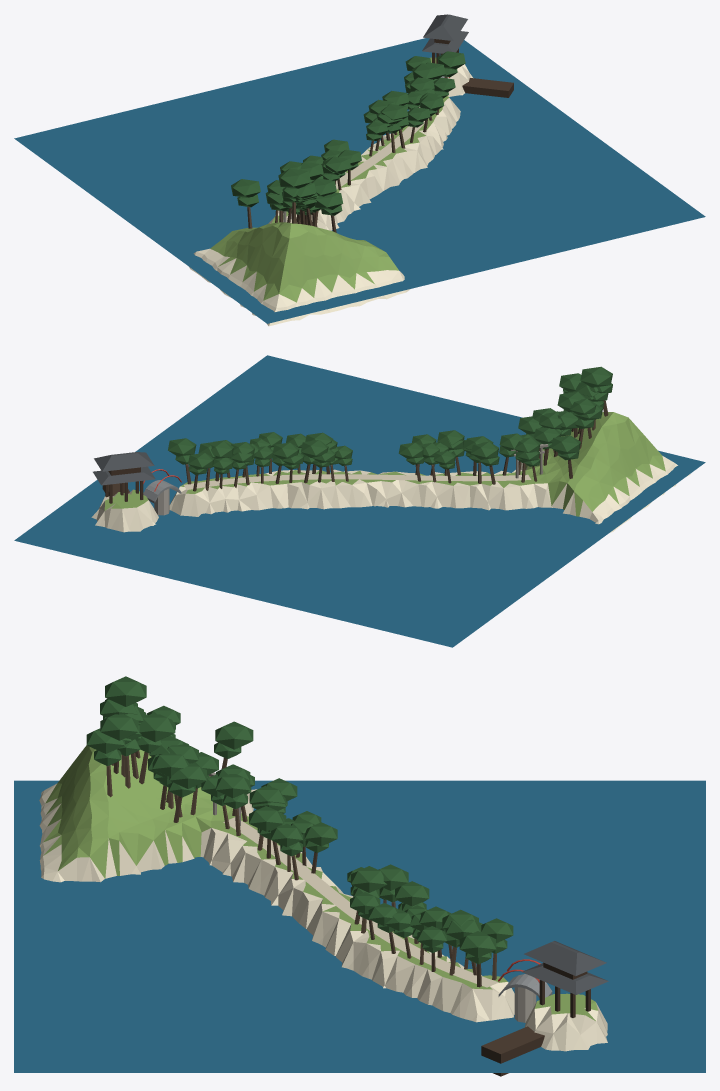
Rendered from amanohashidate.glb.
The picture shows the model from 3 angles, top to bottom: view 1: azimuth 30°, elevation 25°; view 2: azimuth 150°, elevation 25°; view 3: azimuth 270°, elevation 25°; orthographic projection. The views are drawn at different scales.
Parts seen in each view (by area): view 1: amano_water, amano_terrain, amano_pine, amano_sand, amano_tile, amano_bark, amano_darkwood, amano_path; view 2: amano_water, amano_sand, amano_pine, amano_terrain, amano_bark, amano_path, amano_tile, amano_darkwood; view 3: amano_water, amano_pine, amano_sand, amano_terrain, amano_bark, amano_path, amano_tile, amano_darkwood, amano_concrete.
Part boxes in pixels (<box>): amano_water: <box>14,38,705,323</box>; amano_terrain: <box>210,57,448,302</box>; amano_pine: <box>231,51,465,215</box>; amano_sand: <box>189,64,473,326</box>; amano_tile: <box>422,14,468,53</box>; amano_bark: <box>247,76,447,232</box>; amano_darkwood: <box>432,39,513,97</box>; amano_path: <box>283,118,428,222</box>; amano_water: <box>14,355,705,647</box>; amano_sand: <box>91,456,690,532</box>; amano_pine: <box>168,366,612,474</box>; amano_terrain: <box>104,412,665,516</box>; amano_bark: <box>185,400,608,491</box>; amano_path: <box>184,474,531,489</box>; amano_tile: <box>93,452,155,485</box>; amano_darkwood: <box>102,467,143,503</box>; amano_water: <box>14,780,705,1072</box>; amano_pine: <box>86,676,513,964</box>; amano_sand: <box>39,783,607,1051</box>; amano_terrain: <box>43,745,597,1020</box>; amano_bark: <box>106,750,496,987</box>; amano_path: <box>223,817,498,987</box>; amano_tile: <box>522,941,608,994</box>; amano_darkwood: <box>481,962,590,1076</box>; amano_concrete: <box>514,987,536,1022</box>.
Bounding box in the file's own units: 22.4 × 5.6 × 22.4.
